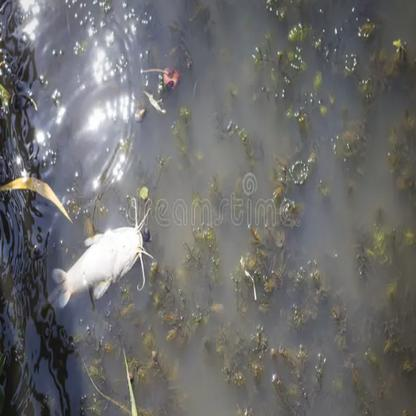deceased fish: (49, 198, 162, 313)
